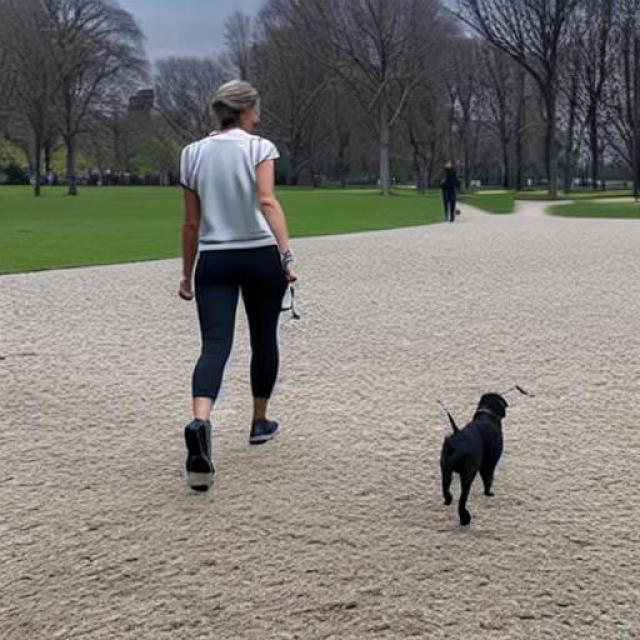Unleashed_Dog: (199, 240, 510, 528)
